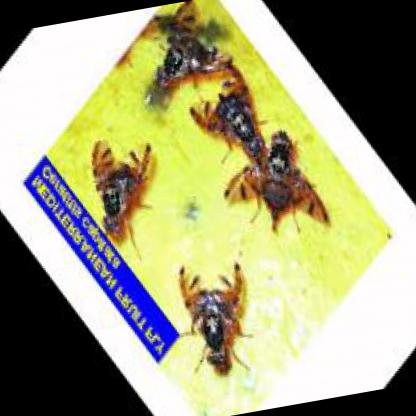fruit fly: (229, 129, 331, 232), (178, 261, 255, 373), (188, 68, 263, 158), (157, 6, 231, 84), (91, 140, 151, 236)
